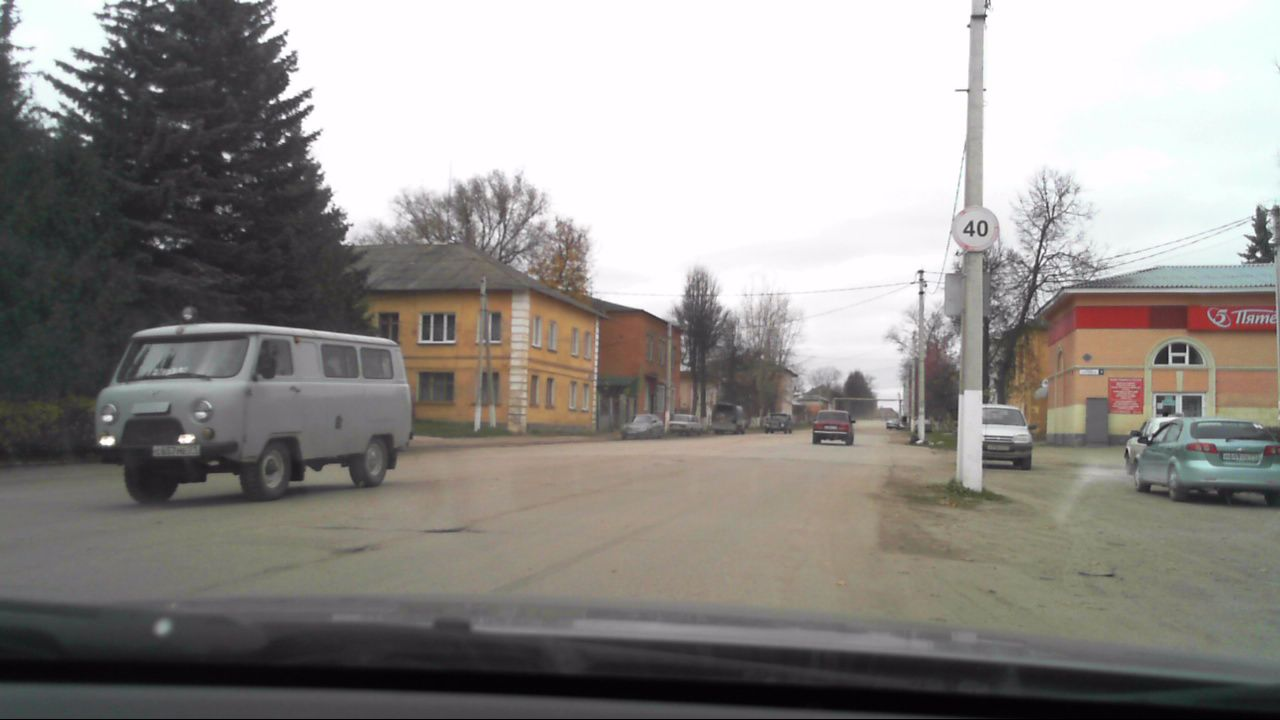speed_warning_40: (950, 205, 1000, 252)
